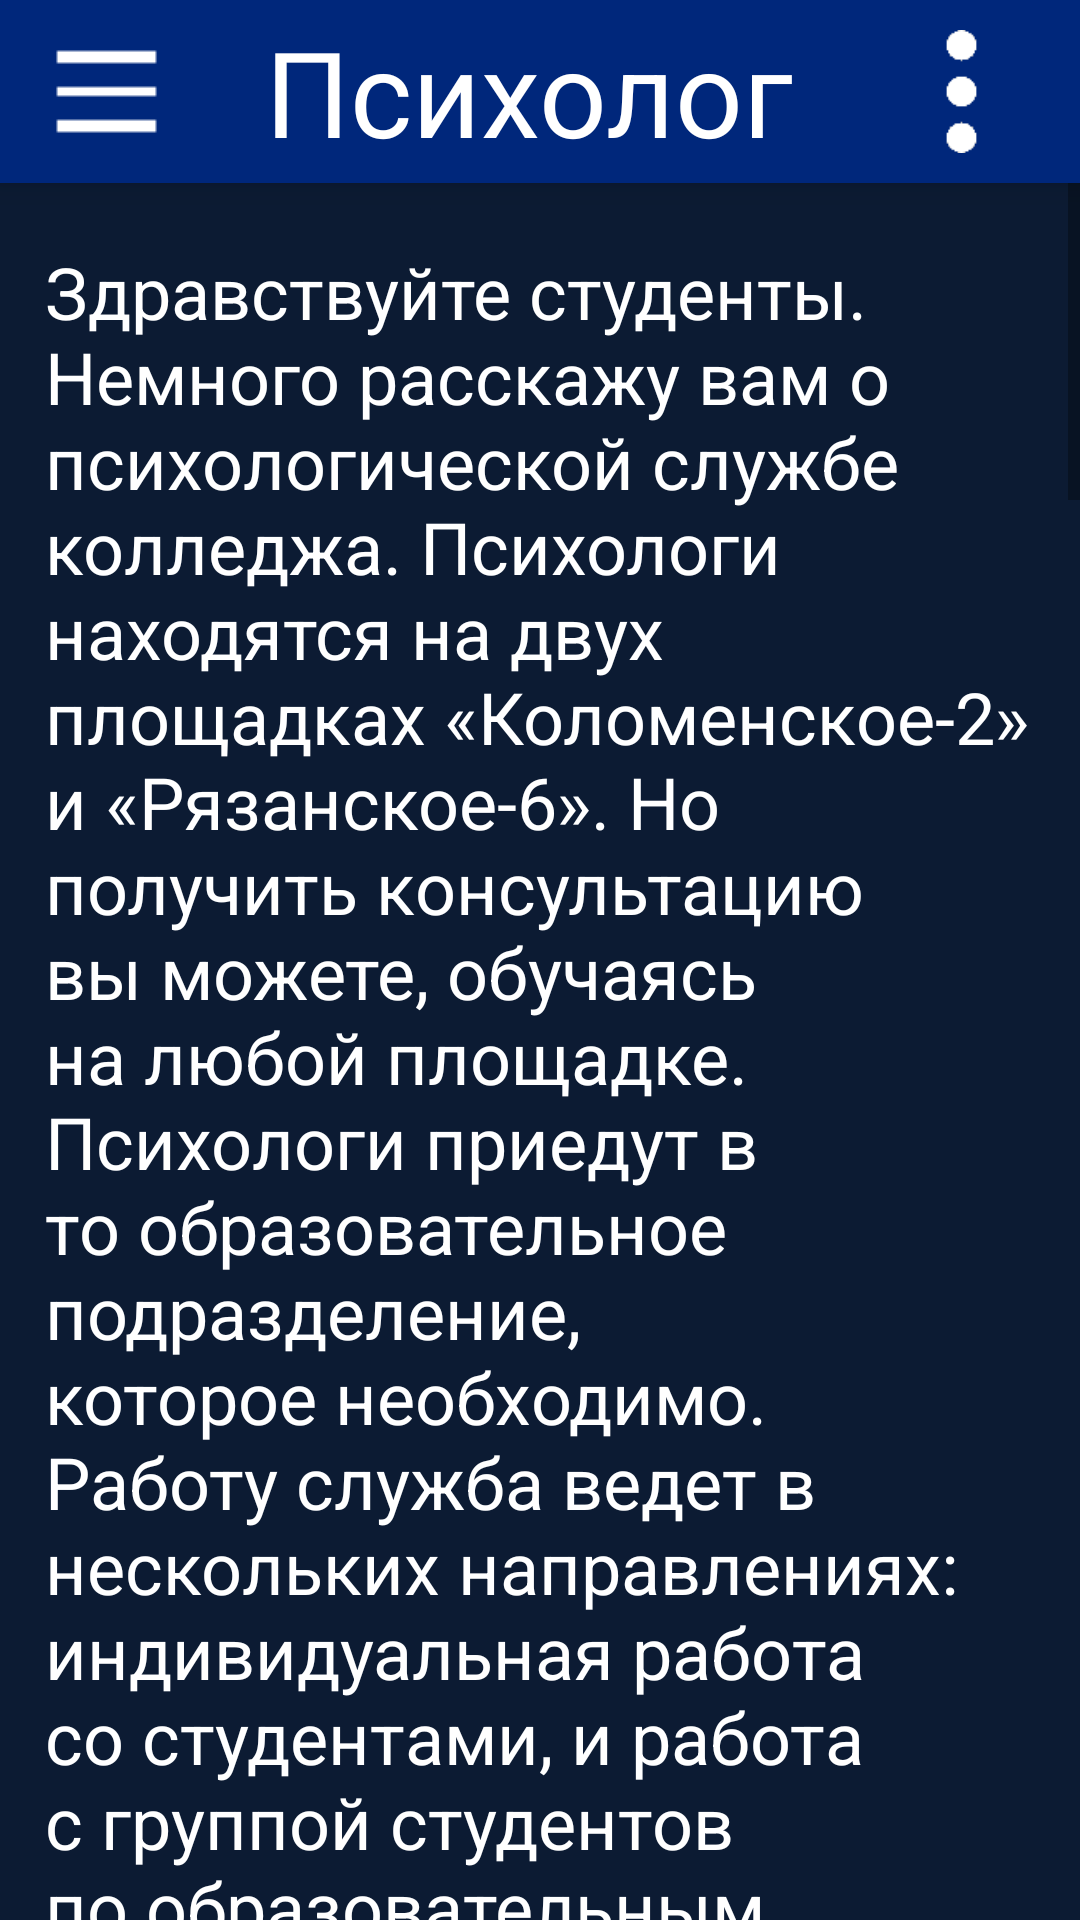

Named icons in this screenshot (1080px×1920px) and their centers, [x,y]:
leftmenuicon: [106,91]
